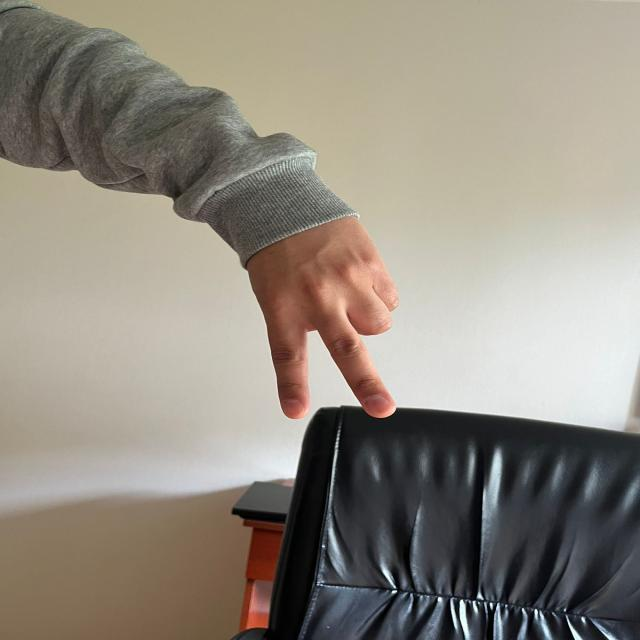N: (219, 182, 417, 428)
